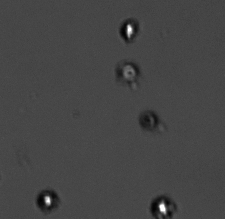Dead Cell: (139, 109, 162, 130)
Living Cell: (116, 60, 141, 85), (35, 189, 59, 213), (149, 194, 176, 215), (119, 18, 139, 42)
